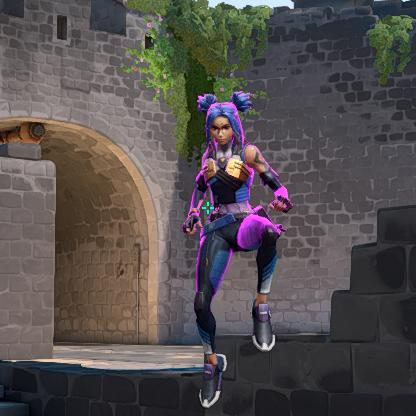enemyBody: (210, 150, 248, 204)
enemyHead: (209, 110, 239, 141)
